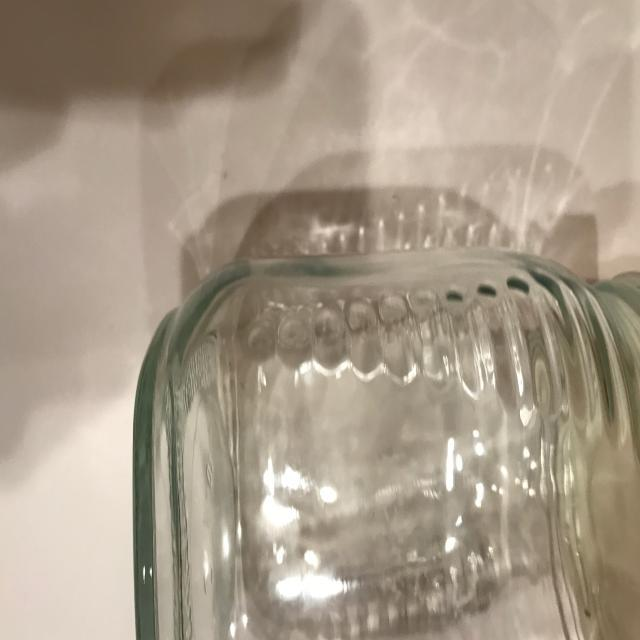glass: (131, 256, 640, 640)
